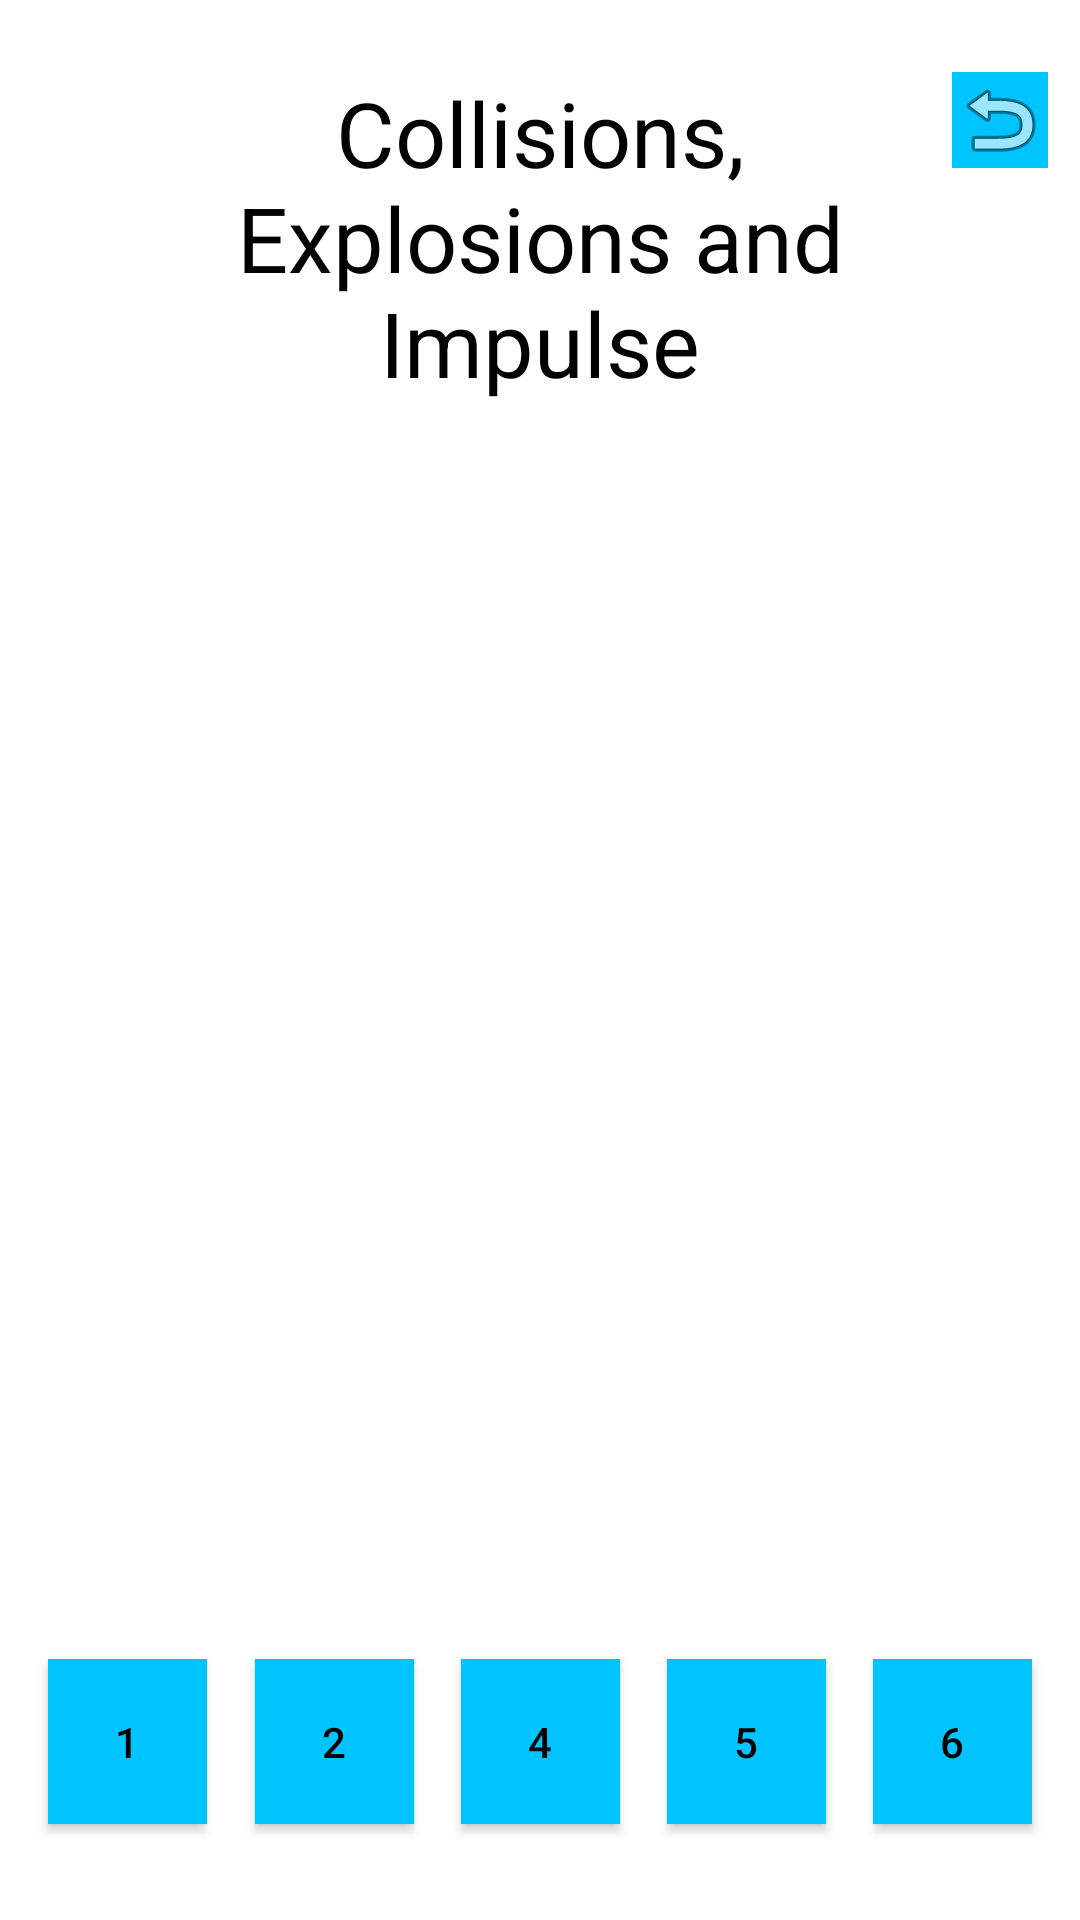

Icon click points for this 1080w x 1920h phone screenshot, format (x,y):
revert: (1000,120)
